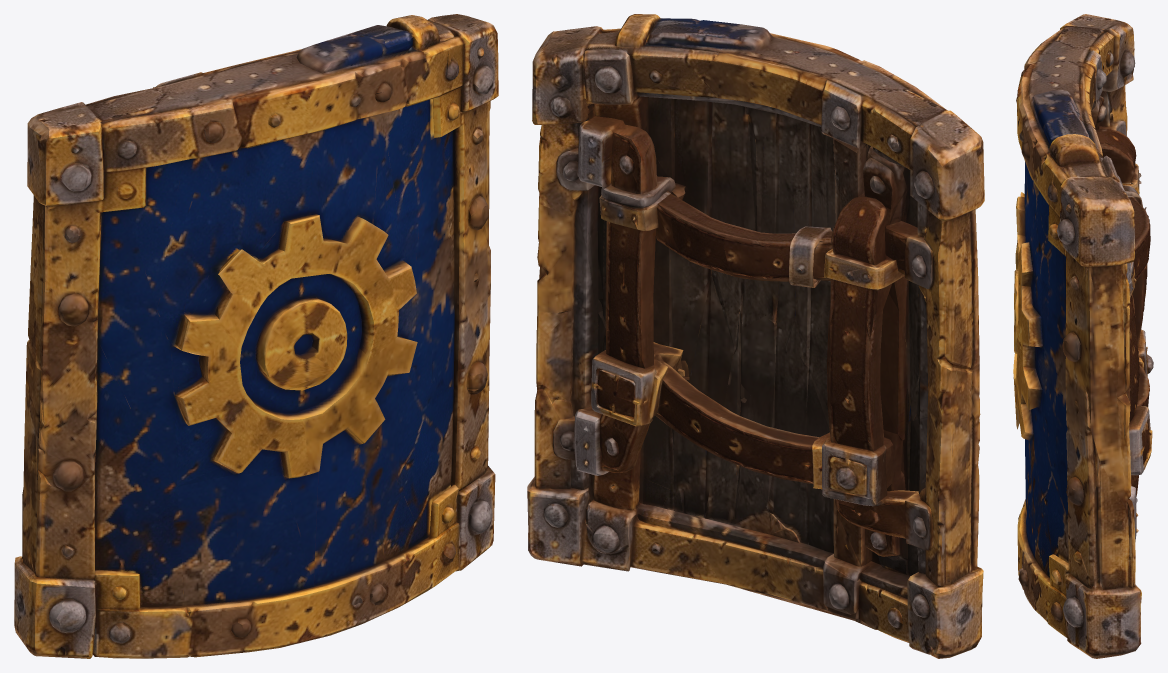
Rendered from shoulder-shield.glb.
The picture shows the model from 3 angles, left to right: view 1: azimuth 30°, elevation 25°; view 2: azimuth 150°, elevation 25°; view 3: azimuth 270°, elevation 25°; orthographic projection. The views are drawn at different scales.
Parts seen in each view (by area): view 1: Mesh_0; view 2: Mesh_0; view 3: Mesh_0.
Boxes of the visible parts, left/top/right/bottom form: Mesh_0: left=14, top=14, right=498, bottom=658; Mesh_0: left=527, top=14, right=984, bottom=658; Mesh_0: left=1013, top=14, right=1153, bottom=658.
Size of the model in its own units: 1.61 by 1.9 by 0.4919.
Materials: 1 (1 with a texture image).
